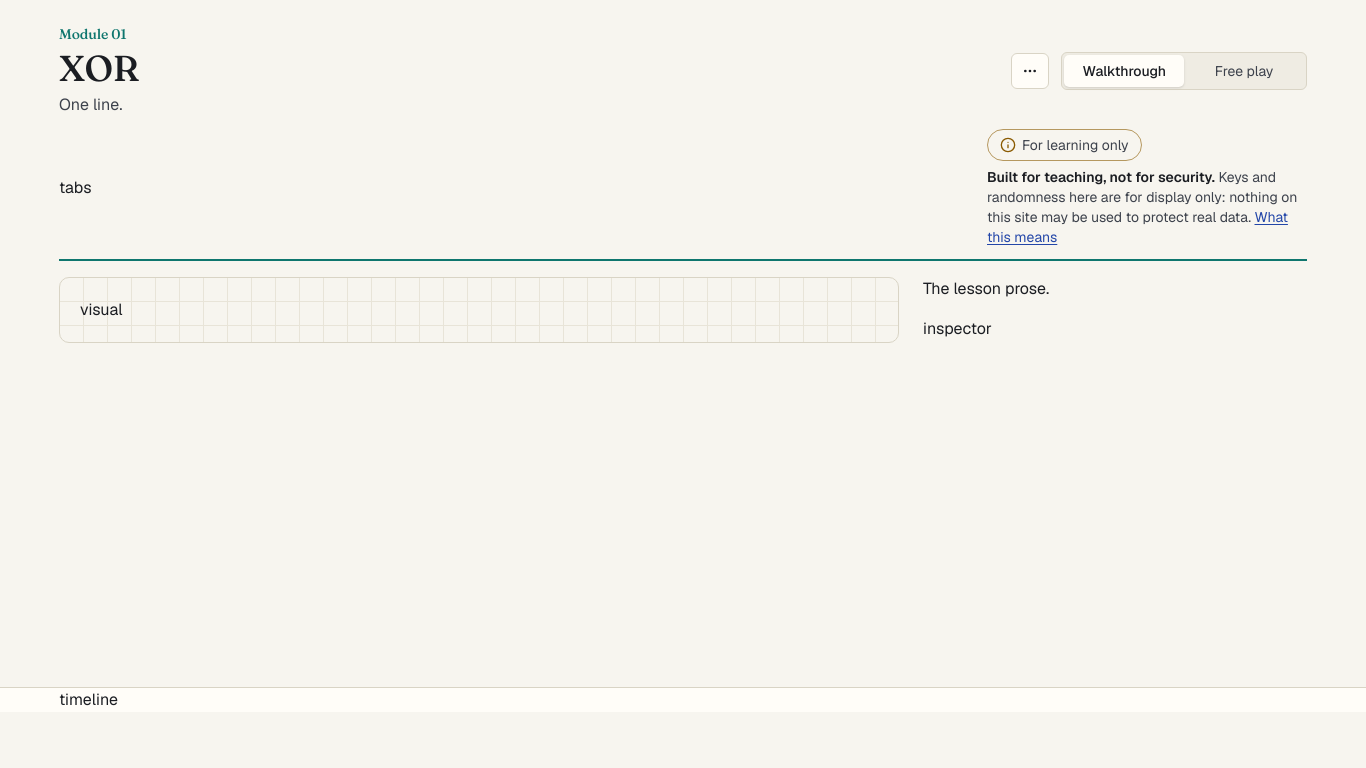
it: ModuleLayout › puts display options behind "More options"
Expected: the text "tools" is not shown
What coordinates should you click on to do the following:
click the button named "More options"
I would click on:
 (1030, 70)
Its box is x1=1012 y1=52 x2=1050 y2=88.
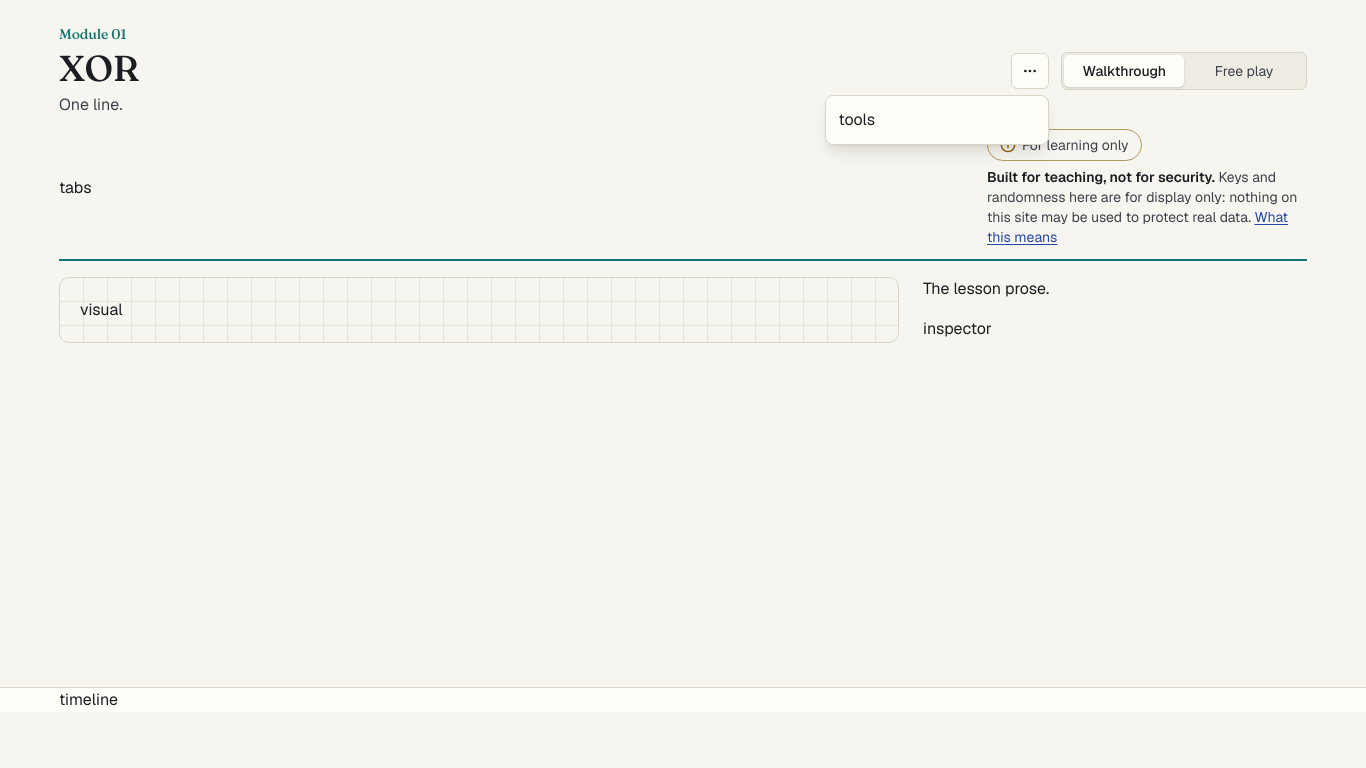
Result: the text "tools" is shown at x1=838 y1=108 x2=875 y2=130
